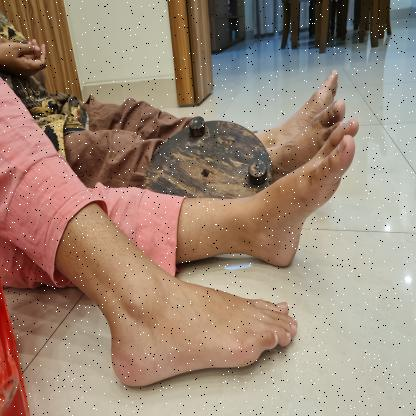leg: (54, 199, 300, 391), (180, 116, 361, 274), (254, 64, 342, 146), (269, 95, 353, 174)
